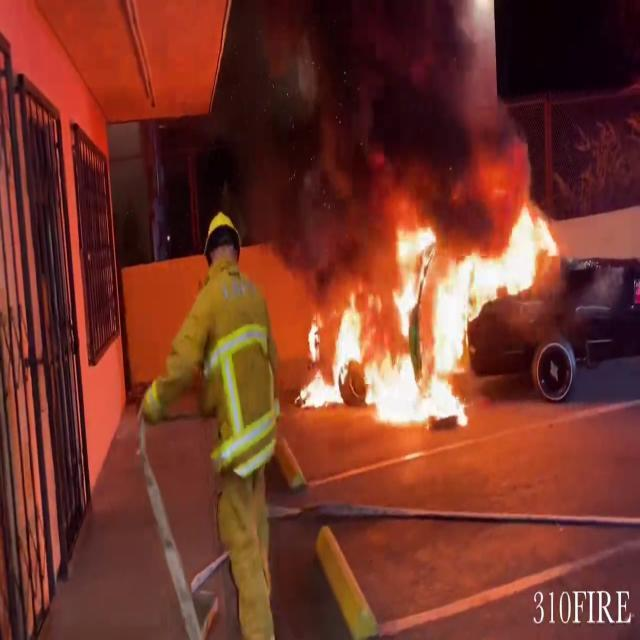Fire: (296, 176, 566, 426)
Smoke: (247, 0, 525, 249)
